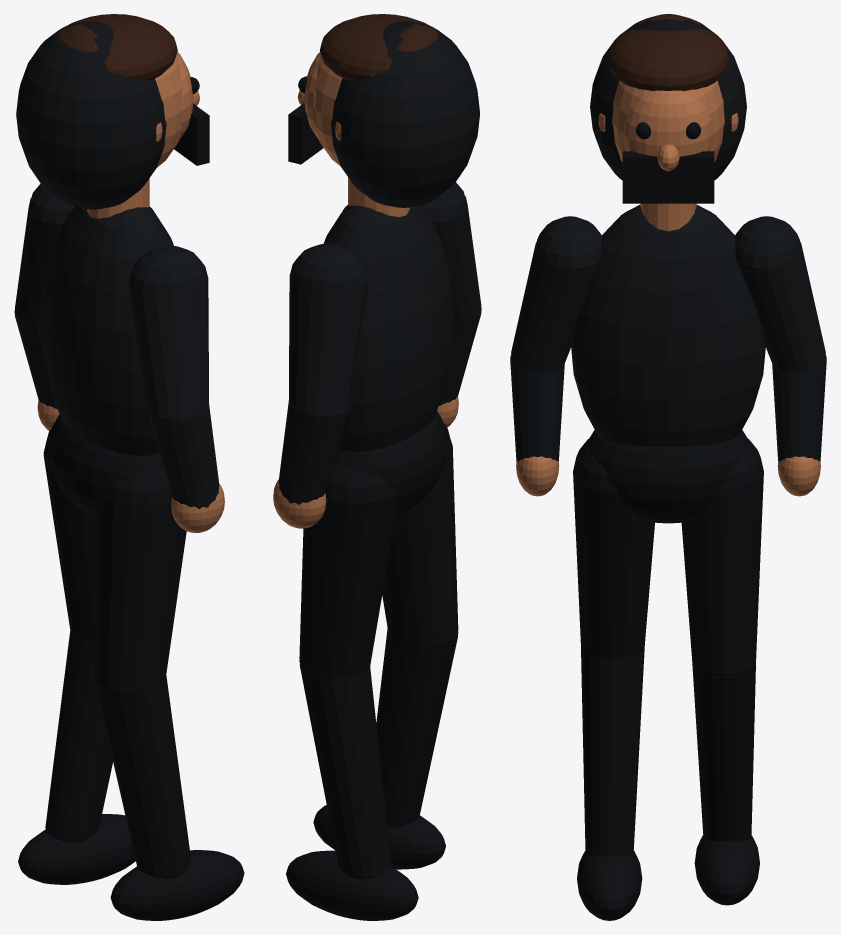
File: person_06.dae
3 renders of one model, left to right at view 1: azimuth 30°, elevation 25°; view 2: azimuth 150°, elevation 25°; view 3: azimuth 270°, elevation 25°, orthographic. The views are drawn at different scales.
Parts seen in each view (by area): view 1: part1node, part0node, part2node, part3node; view 2: part0node, part1node, part2node, part3node; view 3: part1node, part0node, part2node, part3node.
Boxes of the visible parts, x1,y1,x2,y2 form: part1node: (14,21,219,509); part0node: (18,77,244,920); part2node: (37,52,224,532); part3node: (58,14,177,80); part0node: (286,76,458,920); part1node: (278,21,481,504); part2node: (273,52,458,528); part3node: (320,14,438,80); part1node: (510,19,826,461); part0node: (573,122,763,920); part2node: (516,80,820,496); part3node: (607,14,729,90).
Bounding box in the file's own units: 0.033 × 0.05 × 0.15.
